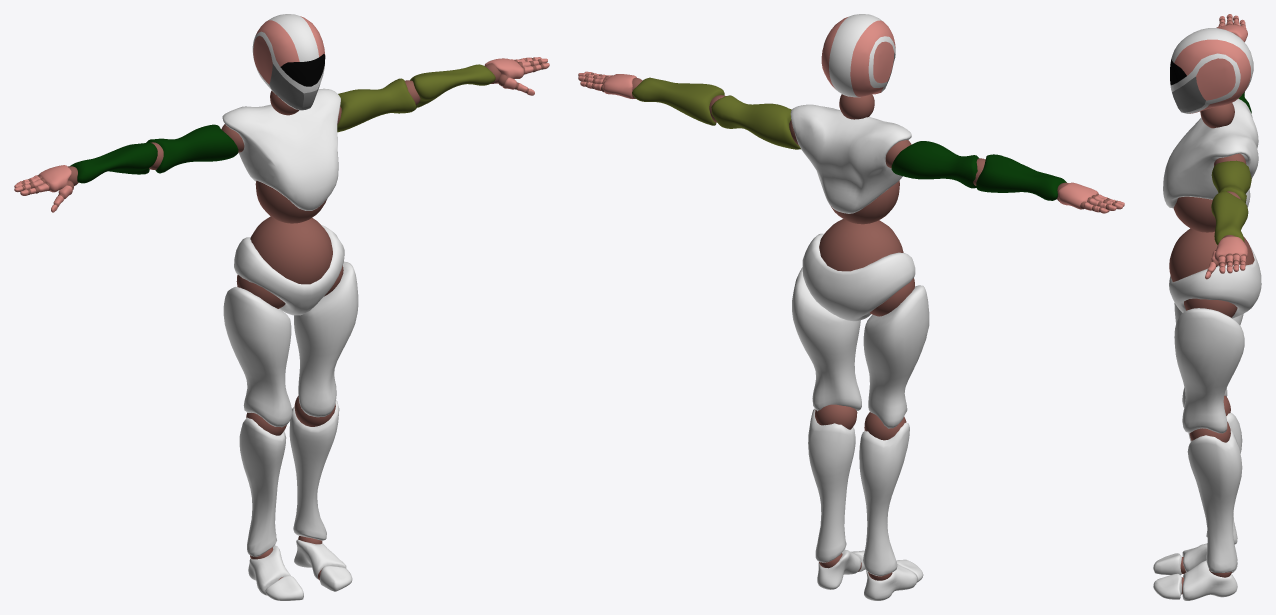
File: Xbot_LP_Riggs_FBX.fbx
3 views of the same model, side by side, from view 1: azimuth 30°, elevation 25°; view 2: azimuth 150°, elevation 25°; view 3: azimuth 270°, elevation 25° (orthographic). The views are drawn at different scales.
Parts seen in each view (by area): view 1: Beta_Surface, Beta_Joints; view 2: Beta_Surface, Beta_Joints; view 3: Beta_Surface, Beta_Joints.
Boxes of the visible parts, <box> form: Beta_Surface: <box>14,14,549,600</box>; Beta_Joints: <box>21,57,543,579</box>; Beta_Surface: <box>578,14,1124,600</box>; Beta_Joints: <box>584,72,1117,580</box>; Beta_Surface: <box>1153,14,1261,600</box>; Beta_Joints: <box>1169,16,1254,594</box>.
Bounding box in the file's own units: 181 × 181 × 32.07.
